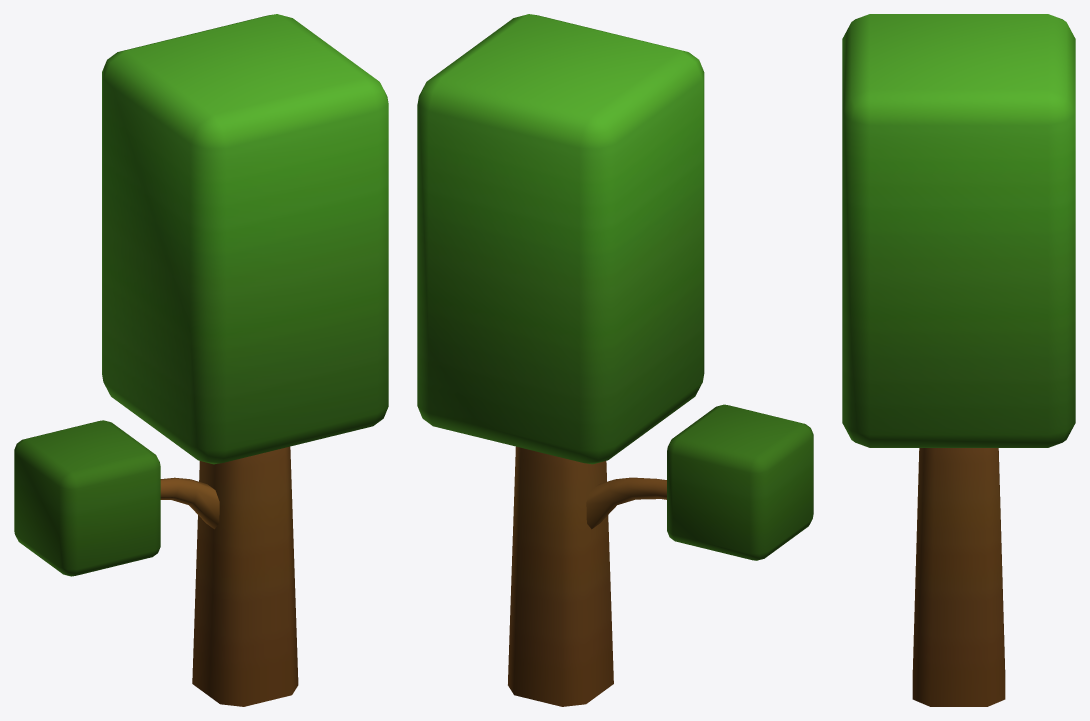
File: Tree_B_4_.fbx
3 renders of one model, left to right at view 1: azimuth 30°, elevation 25°; view 2: azimuth 150°, elevation 25°; view 3: azimuth 270°, elevation 25°, orthographic. The views are drawn at different scales.
Visible parts, largest first — view 1: Tree_B_4; view 2: Tree_B_4; view 3: Tree_B_4.
Part boxes in pixels (box(x1,y1,x2,y2)): Tree_B_4: box(14, 14, 388, 706); Tree_B_4: box(417, 14, 813, 706); Tree_B_4: box(842, 14, 1075, 706).
Bounding box in the file's own units: 236 × 441 × 146.
